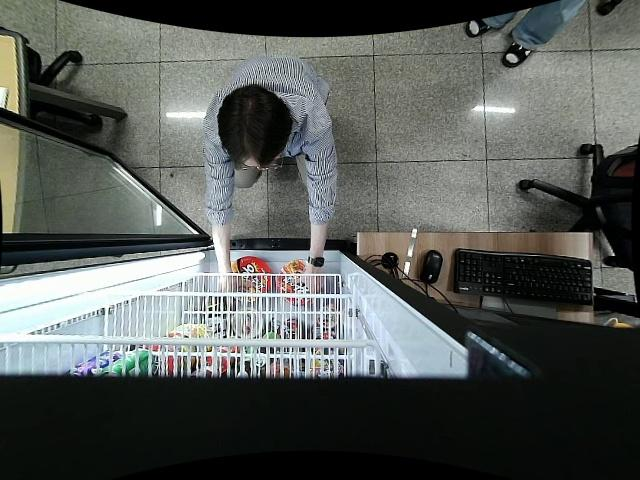00_hand: (220, 275, 256, 300), (292, 273, 326, 293)
10_wangTtukkeong: (276, 262, 318, 308), (231, 256, 274, 294)
